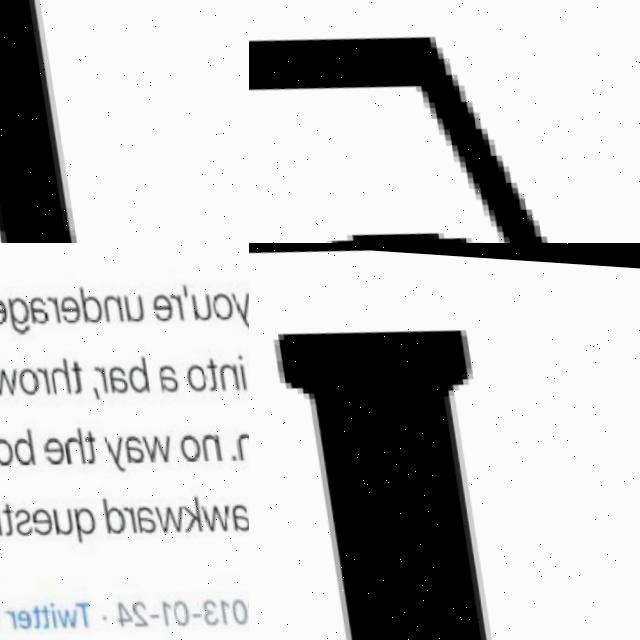0: (222, 589, 240, 618), (164, 591, 182, 620)
1: (211, 590, 224, 620), (153, 592, 164, 621)
2: (123, 593, 140, 622), (239, 589, 249, 618)
3: (193, 591, 212, 620)
4: (106, 595, 124, 622)
5: (249, 0, 640, 243)
L: (249, 302, 554, 640)
U: (0, 0, 249, 243)
